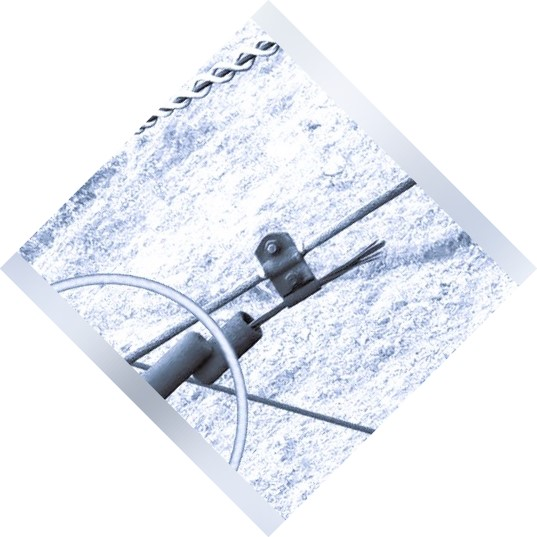Damage of shockproof hammer: (189, 219, 392, 394)
